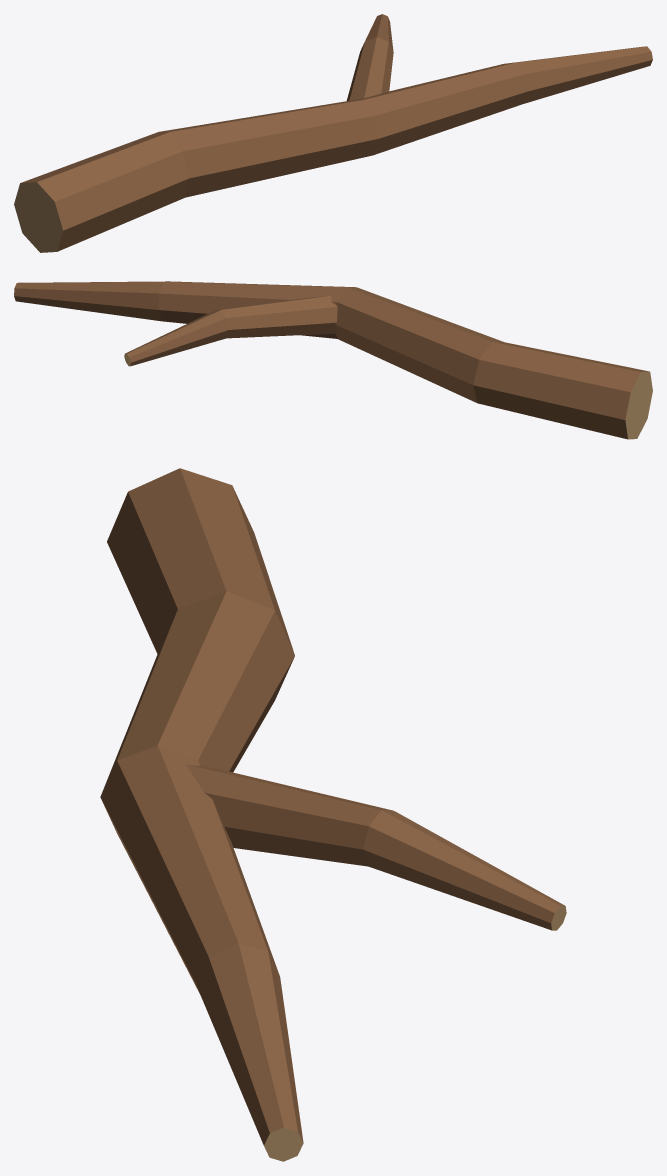
File: asset.glb
The picture shows the model from 3 angles, top to bottom: view 1: azimuth 30°, elevation 25°; view 2: azimuth 150°, elevation 25°; view 3: azimuth 270°, elevation 25°; orthographic projection. The views are drawn at different scales.
Parts seen in each view (by area): view 1: Main branch, Fork; view 2: Main branch, Fork; view 3: Main branch, Fork.
Boxes of the visible parts, x1,y1,x2,y2 form: Main branch: (14, 46, 652, 252); Fork: (346, 14, 393, 100); Main branch: (14, 281, 652, 439); Fork: (124, 295, 337, 366); Main branch: (100, 468, 303, 1161); Fork: (186, 764, 566, 930).
Size of the model in its own units: 2.42 by 0.2948 by 0.8135.
Materials: 4 (4 with a texture image).
